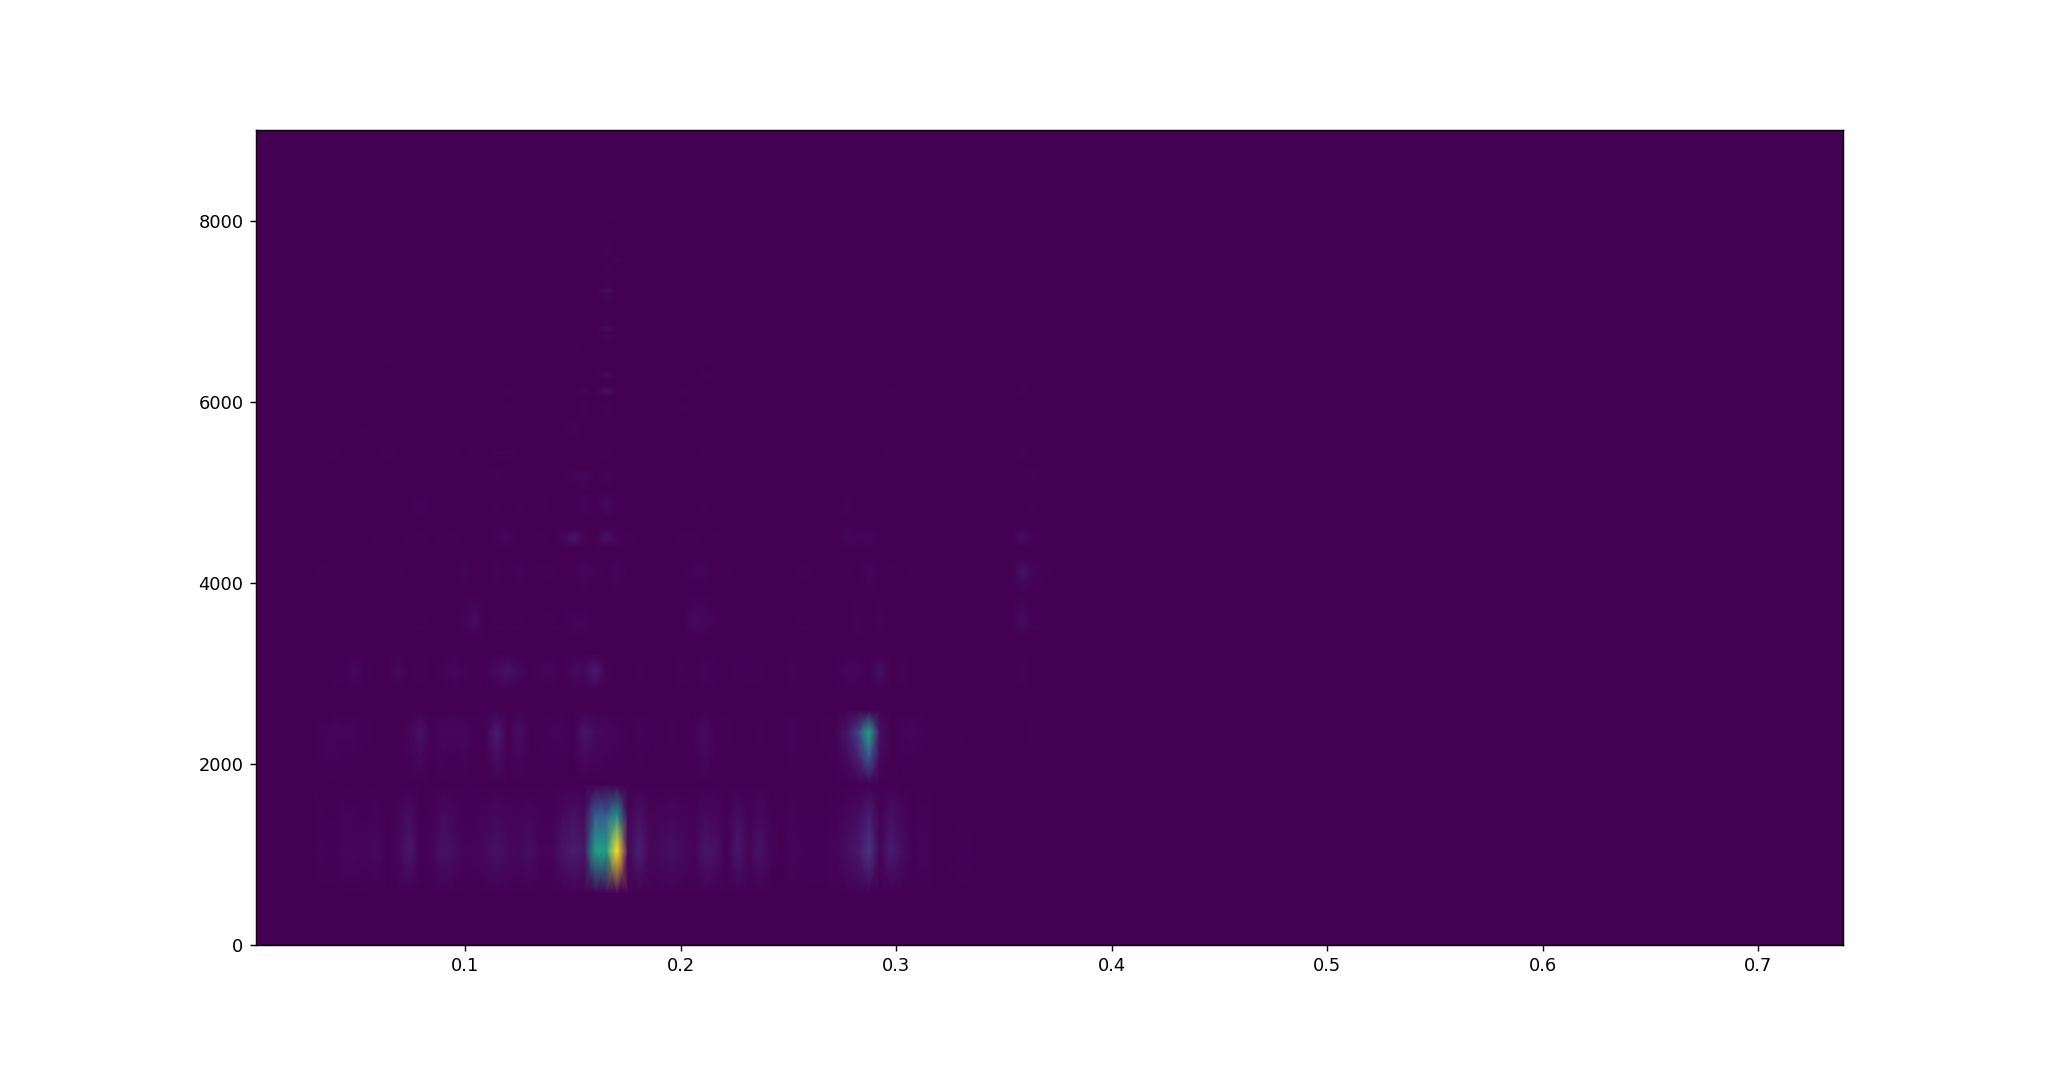GunChange: (425, 279, 1040, 898)
